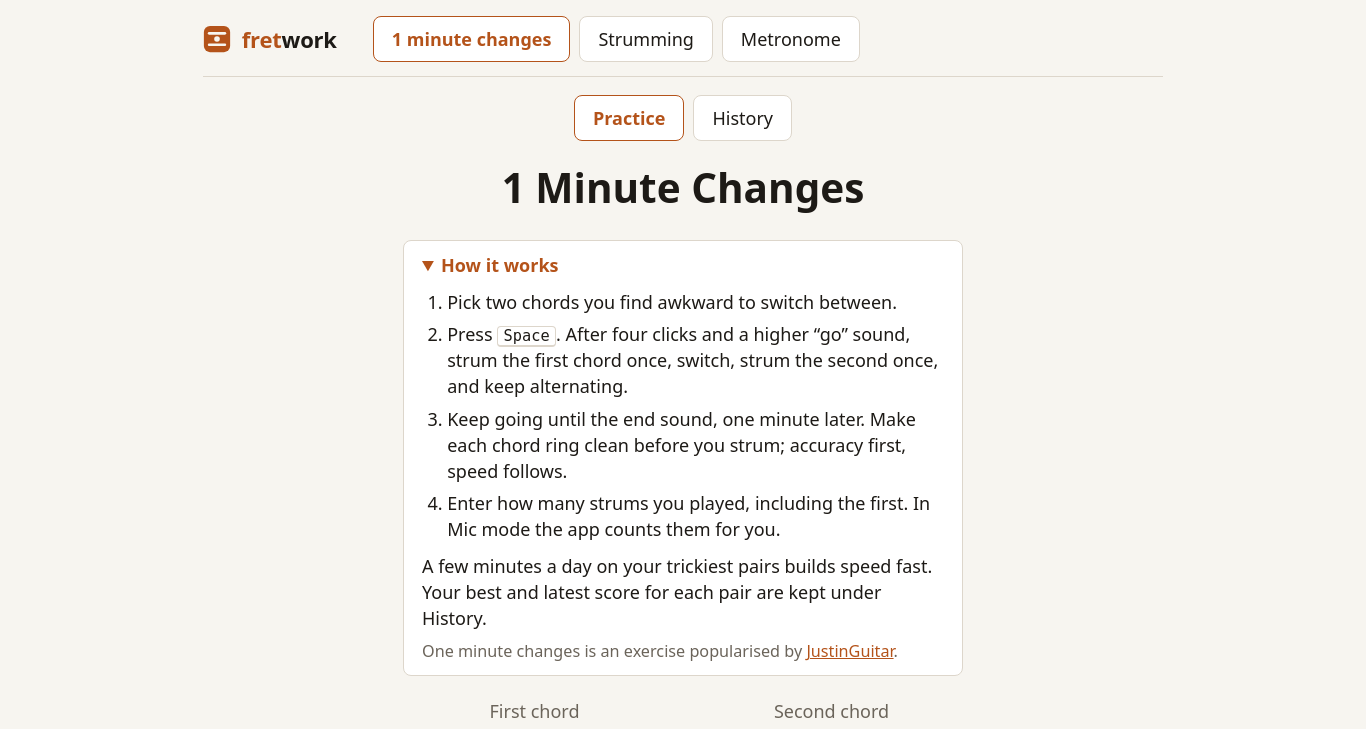
opens on 1 minute changes and switches to the metronome
The image size is (1366, 729).
Expected: the heading "1 Minute Changes" is shown, [502,159,864,217]
Click the button "Metronome": (791, 39) [722,16,860,62]
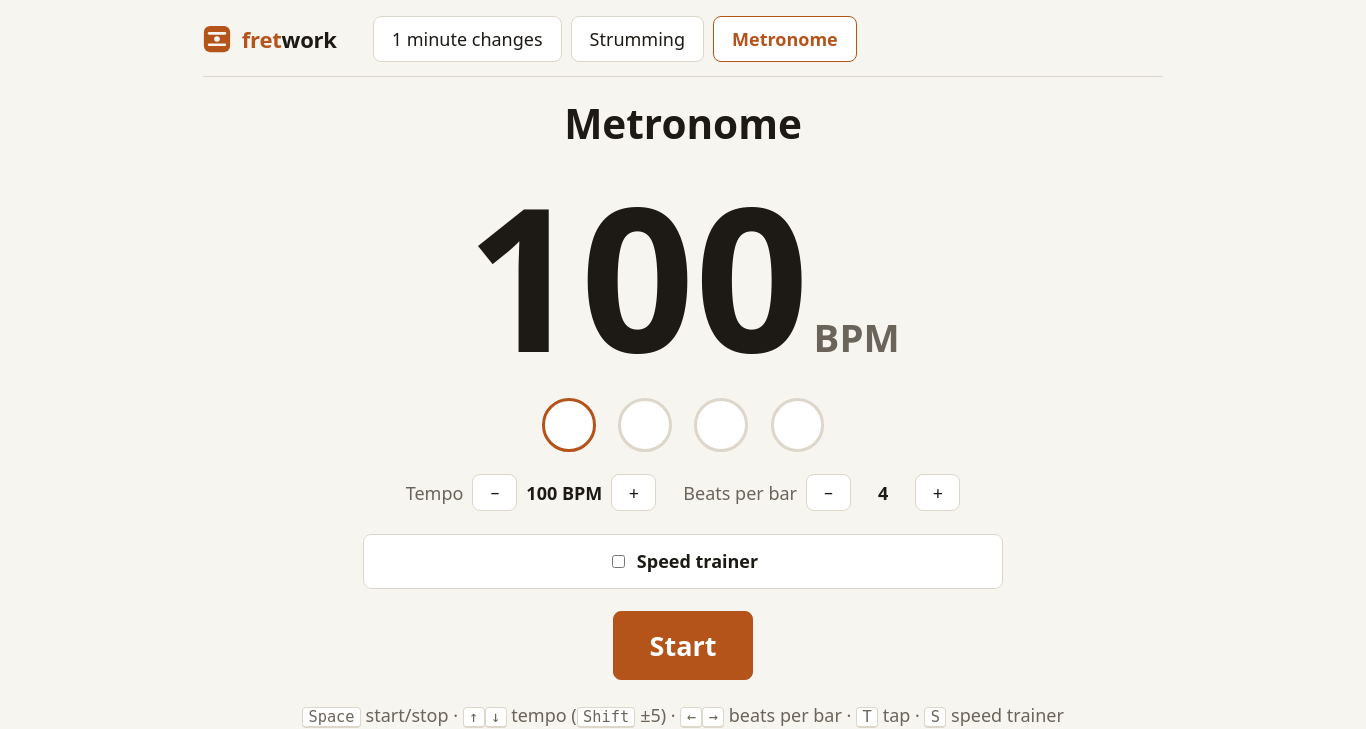
Expected: the heading "Metronome" is shown, [564,95,802,153]
